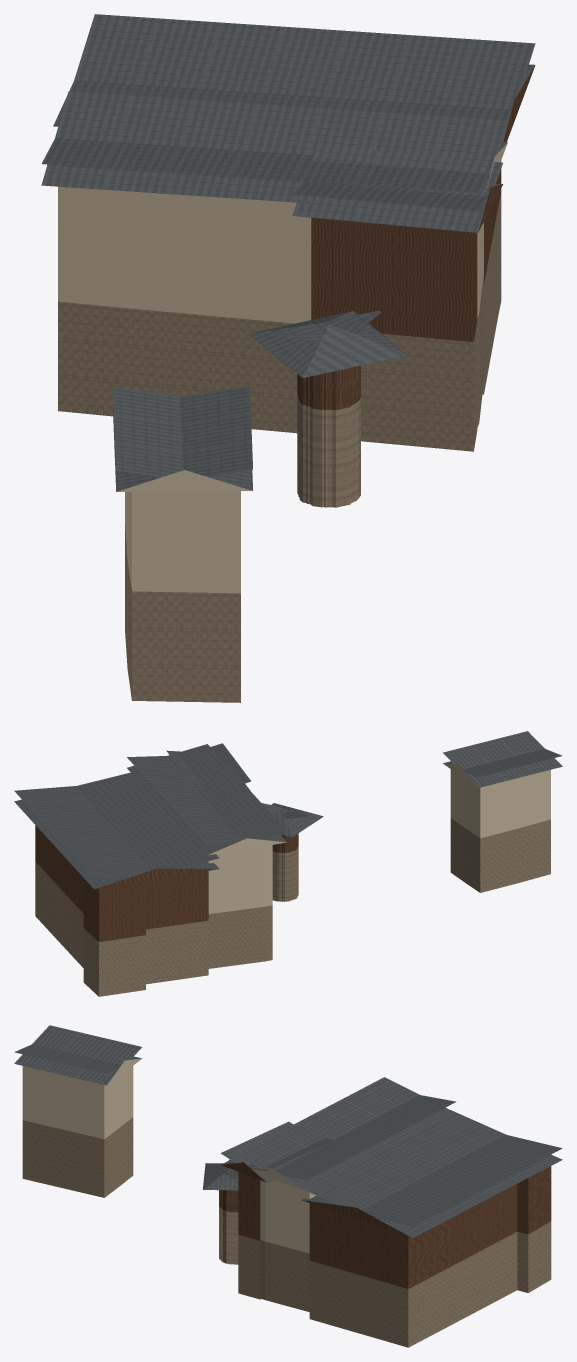
Rendered from bld_c15_46_472.gltf.
3 views of the same model, one above another, from view 1: azimuth 30°, elevation 25°; view 2: azimuth 150°, elevation 25°; view 3: azimuth 270°, elevation 25° (orthographic). The views are drawn at different scales.
Parts seen in each view (by area): view 1: bld_c15_46_472; view 2: bld_c15_46_472; view 3: bld_c15_46_472.
Part boxes in pixels (x1,y1,x2,y2): bld_c15_46_472: (41, 14, 535, 702); bld_c15_46_472: (14, 731, 562, 996); bld_c15_46_472: (14, 1025, 562, 1347).
Size of the model in its own units: 36.99 by 12.6 by 43.3.
6 materials, 6 textured.
